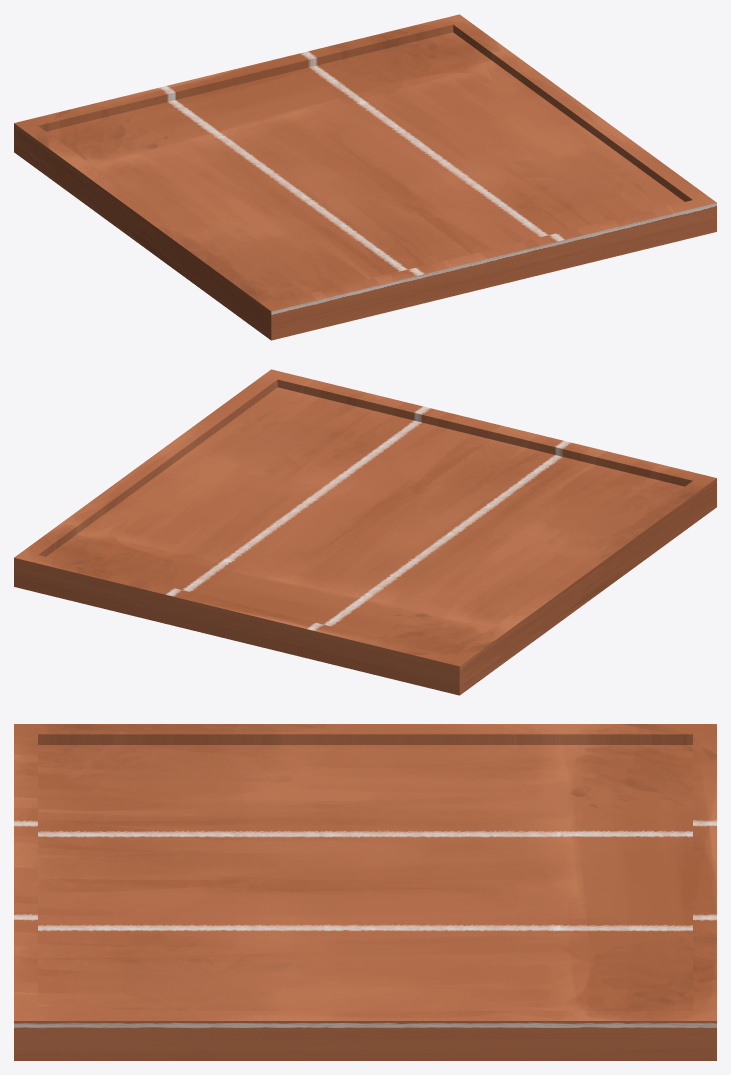
File: TempatSungai.fbx
3 renders of one model, top to bottom at view 1: azimuth 30°, elevation 25°; view 2: azimuth 150°, elevation 25°; view 3: azimuth 270°, elevation 25°, orthographic. The views are drawn at different scales.
Parts seen in each view (by area): view 1: Cube.006; view 2: Cube.006; view 3: Cube.006.
Boxes of the visible parts, x1,y1,x2,y2 form: Cube.006: (14,14,716,340); Cube.006: (14,369,716,695); Cube.006: (14,724,716,1060).
Bounding box in the file's own units: 800 × 50 × 800.
